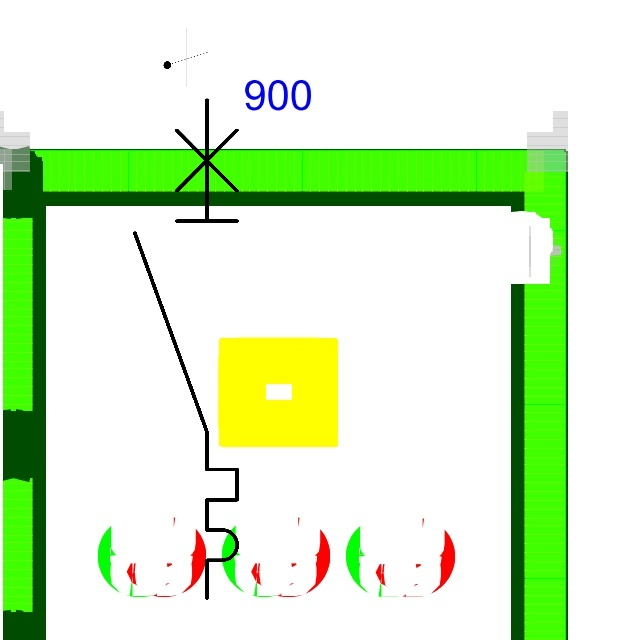interruptor_termomagnetico: (122, 87, 250, 611)
